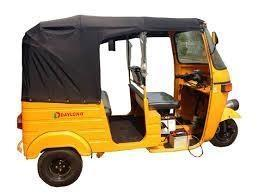keke: (19, 9, 246, 190)
